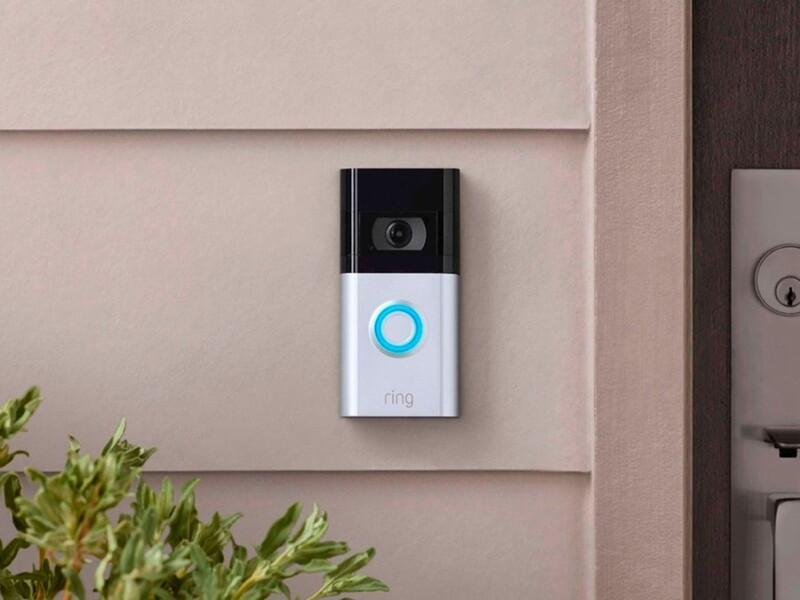doorbell: (331, 159, 470, 421)
